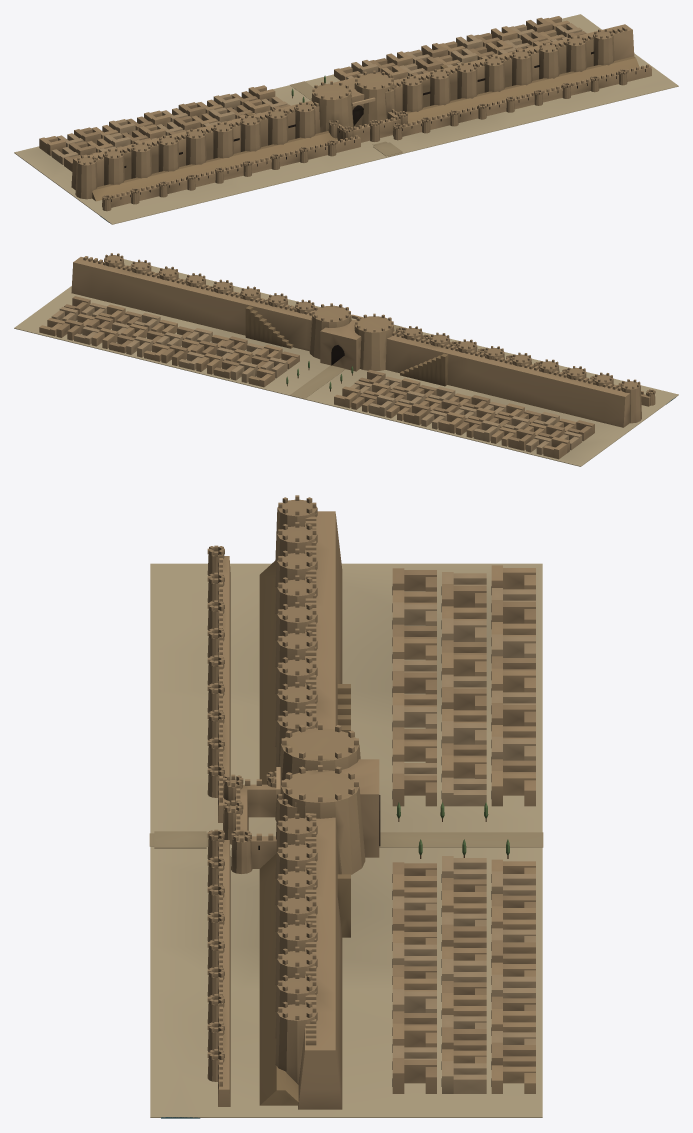
The model's file is sultan-kala-walls.glb.
3 renders of one model, top to bottom at view 1: azimuth 30°, elevation 25°; view 2: azimuth 150°, elevation 25°; view 3: azimuth 270°, elevation 25°, orthographic. The views are drawn at different scales.
Visible parts, largest first — view 1: p1_walls, p0_ground and ditch, p3_town, p2_gate; view 2: p1_walls, p3_town, p0_ground and ditch, p2_gate; view 3: p0_ground and ditch, p3_town, p1_walls, p2_gate.
Part boxes in pixels (box(x1,y1,x2,y2)): p1_walls: box(71, 24, 651, 211); p0_ground and ditch: box(14, 14, 678, 224); p3_town: box(39, 16, 586, 171); p2_gate: box(311, 70, 407, 142); p1_walls: box(71, 253, 655, 427); p3_town: box(39, 296, 594, 459); p0_ground and ditch: box(14, 259, 678, 466); p2_gate: box(309, 303, 404, 371); p0_ground and ditch: box(149, 563, 543, 1118); p3_town: box(392, 565, 535, 1093); p1_walls: box(207, 495, 350, 1109); p2_gate: box(223, 723, 380, 874).
Size of the model in its own units: 300 by 20.62 by 90.24.
